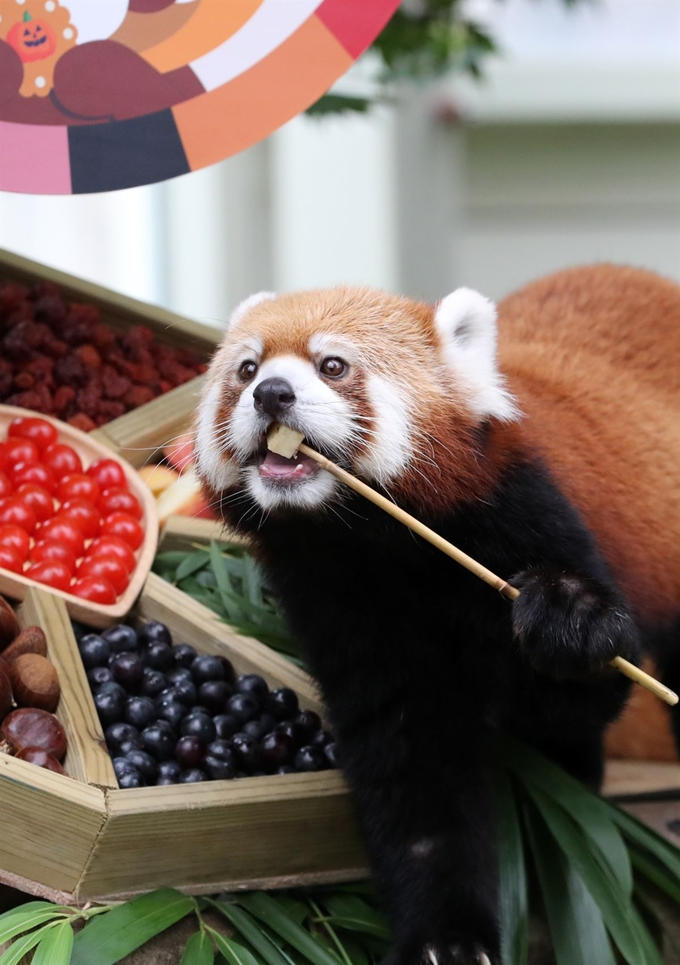redPanda: (182, 237, 646, 768)
